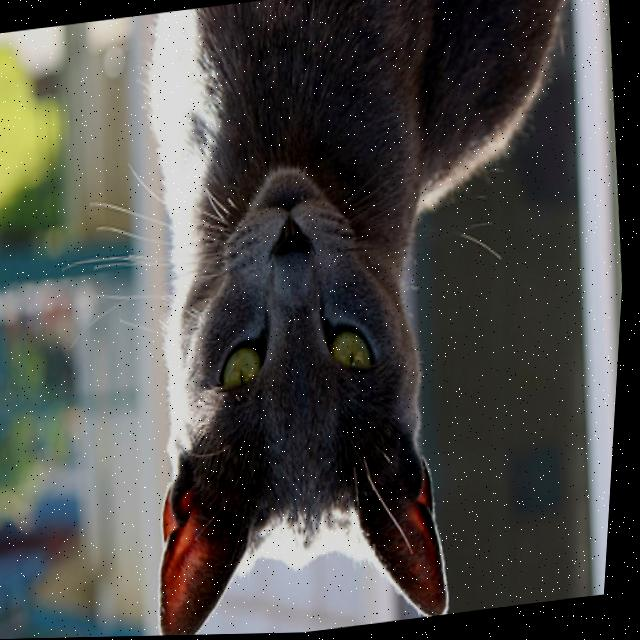Russian Blue: (96, 0, 640, 638)
